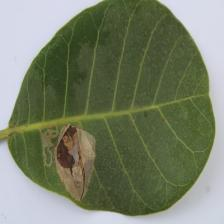leaf miner: (0, 0, 216, 216), (53, 123, 96, 201)
